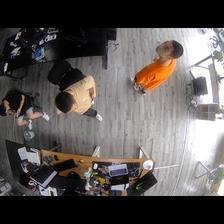normal: (134, 40, 180, 97), (58, 76, 104, 121)
